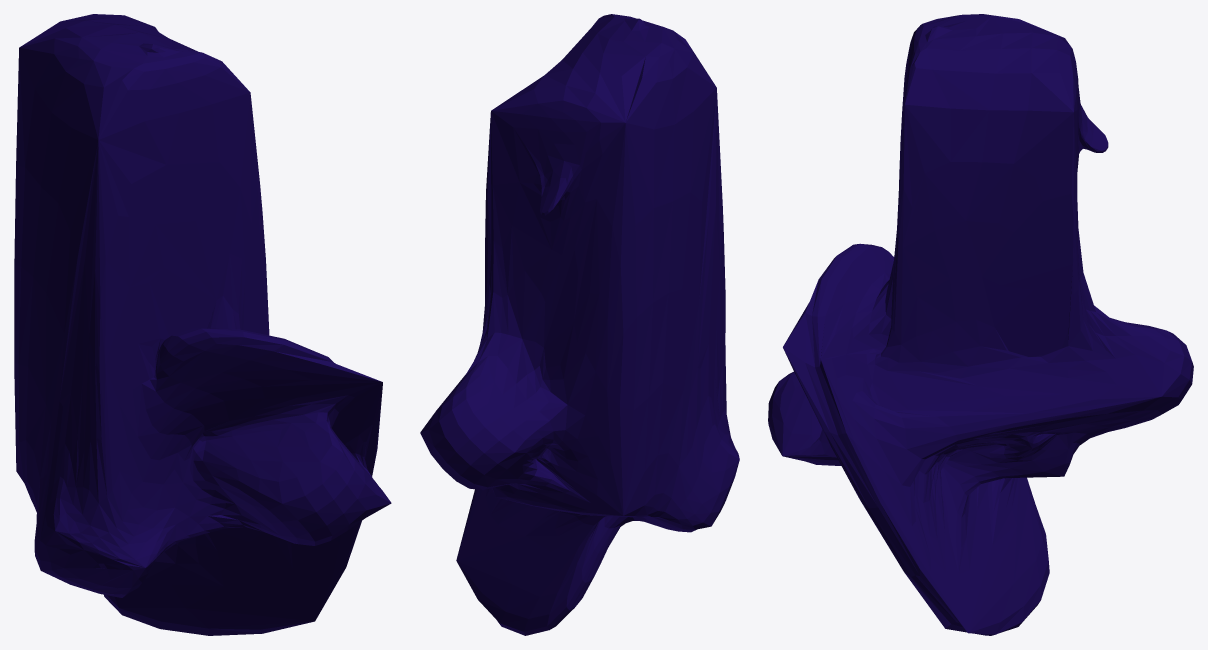
3 renders of one model, left to right at view 1: azimuth 30°, elevation 25°; view 2: azimuth 150°, elevation 25°; view 3: azimuth 270°, elevation 25°, orthographic. The views are drawn at different scales.
Visible parts, largest first — view 1: 015_Cube.072; view 2: 015_Cube.072; view 3: 015_Cube.072.
Boxes of the visible parts, x1,y1,x2,y2 form: 015_Cube.072: (14,14,391,635); 015_Cube.072: (420,14,739,635); 015_Cube.072: (768,14,1193,635).
Size of the model in its own units: 7.65 by 16.54 by 11.44.
